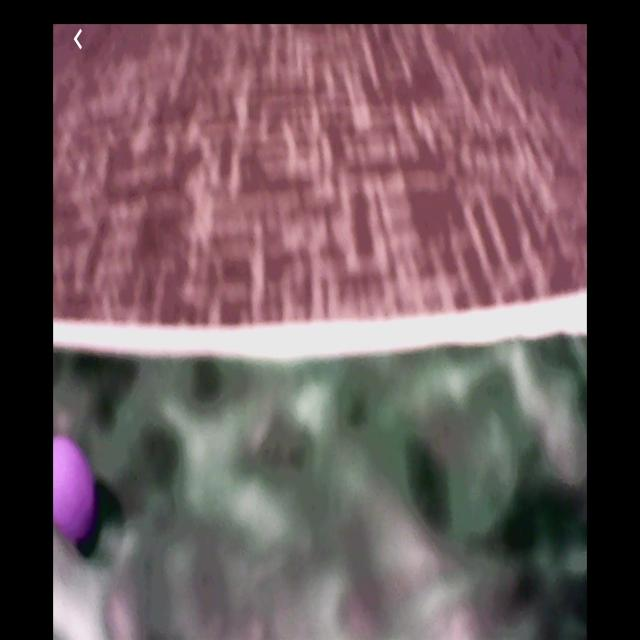ball: (55, 432, 97, 542)
